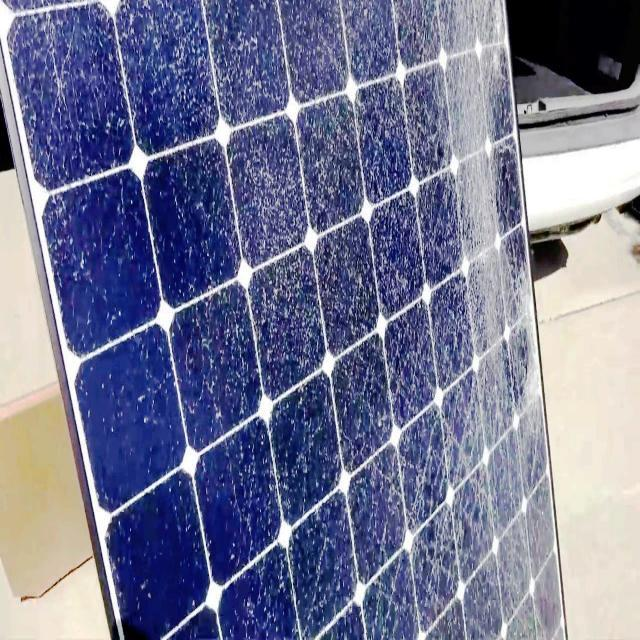faulty: (1, 6, 568, 640)
